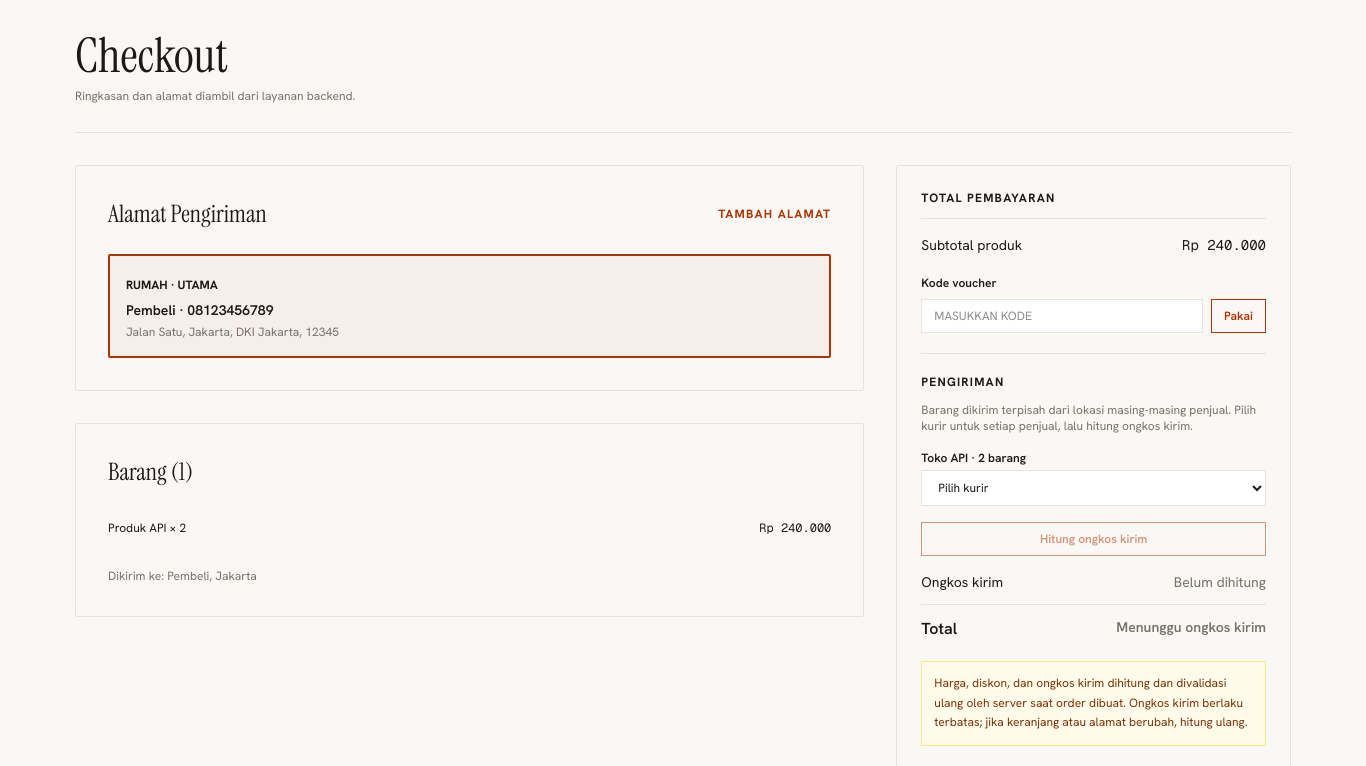
it: CheckoutPage › shows the backend validation error without applying a discount
Type "EXPIRED" into the field labelled "Kode voucher".
click(1062, 316); type("EXPIRED")  # box top-left (921, 299), bottom-right (1203, 333)
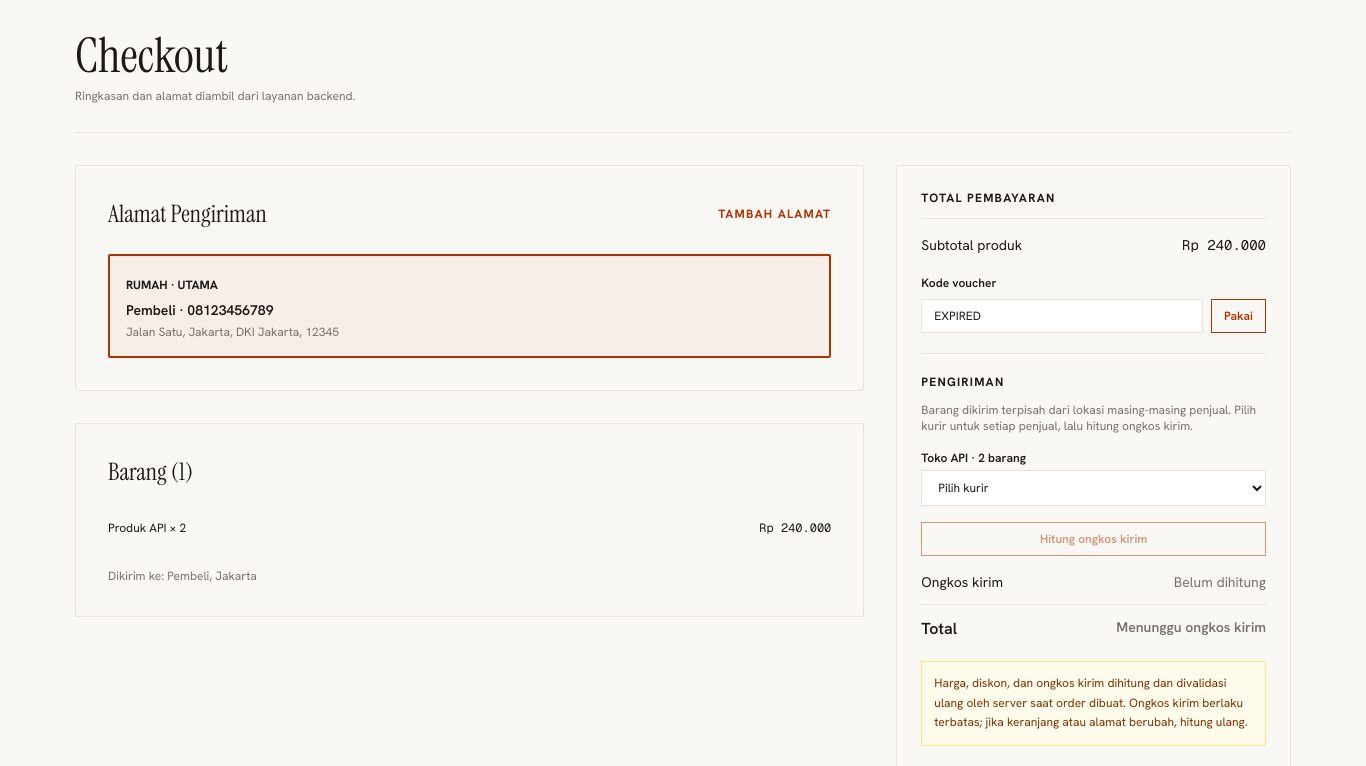
Click the button "Pakai".
click(1238, 316)  # box top-left (1211, 299), bottom-right (1266, 333)
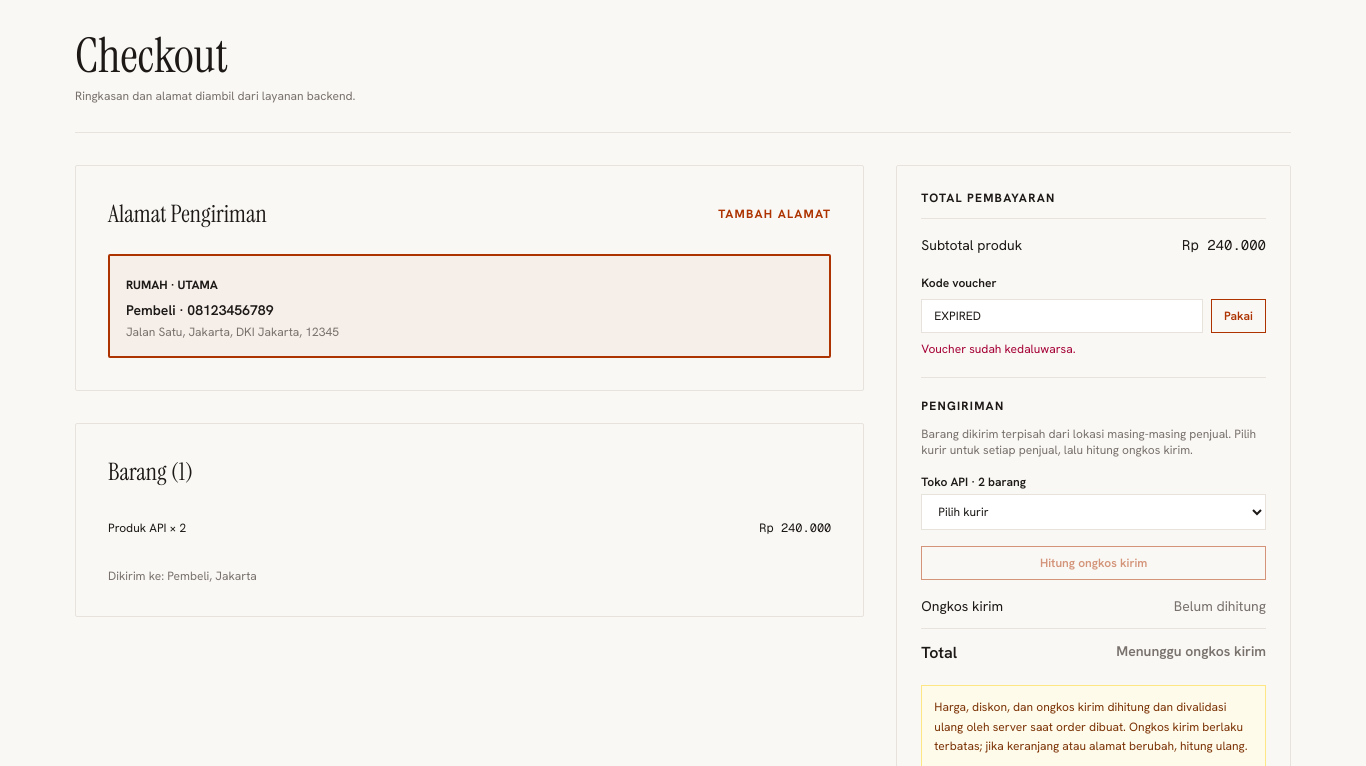
Now the message "Voucher sudah kedaluwarsa." is shown, box top-left (921, 341), bottom-right (1076, 357)
